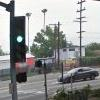Car: (51, 59, 100, 91)
